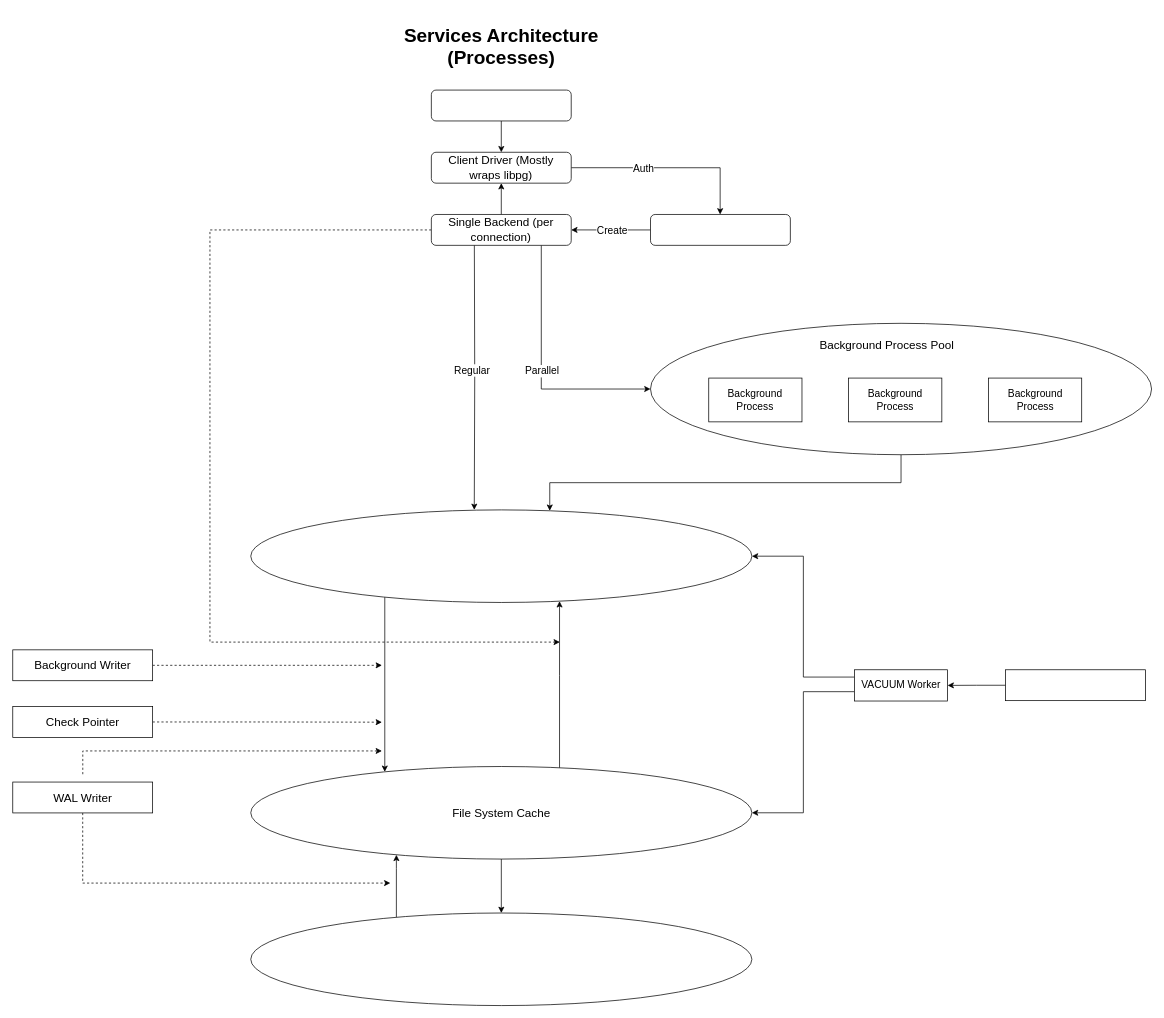
Some shapes in this 1164 by 1018 pixel diagram are drawn without their labels. The centre of each missing label's shape, as x and y in pixels:
"Auto VACUUM Launcher" belongs at [1075,685].
"Client" belongs at [501,105].
"File System Disk" belongs at [501,959].
"Postgres (Postmaster)" belongs at [720,229].
"Shared Memory" belongs at [501,555].
